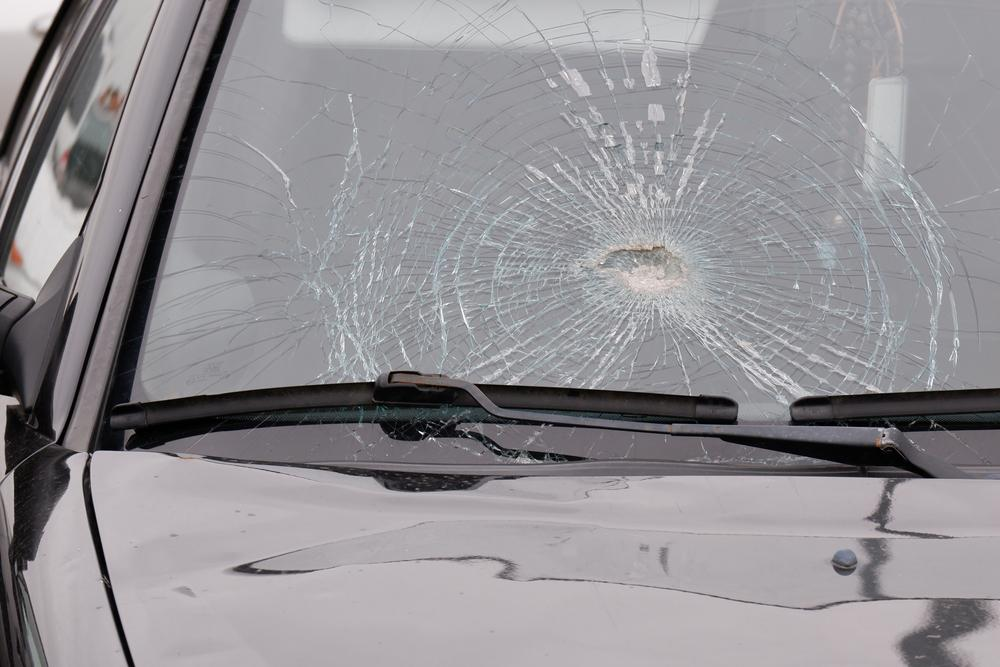glass shatter: (123, 0, 1000, 471)
